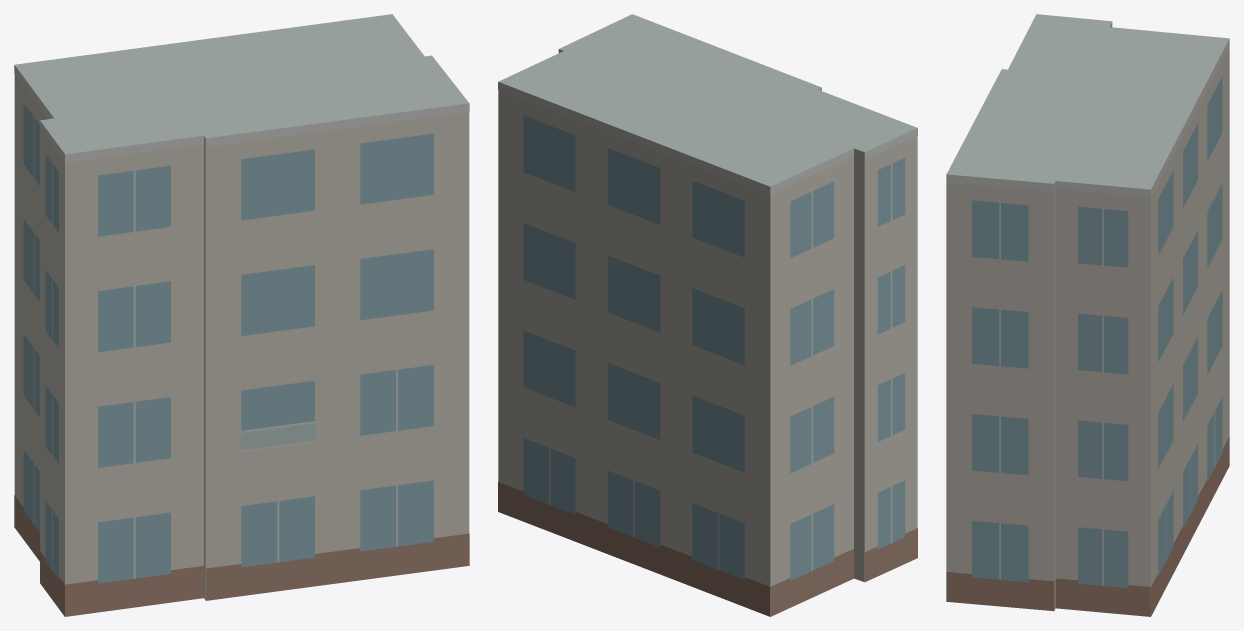
Rendered from survey-upis-32474752.glb.
3 renders of one model, left to right at view 1: azimuth 30°, elevation 25°; view 2: azimuth 150°, elevation 25°; view 3: azimuth 270°, elevation 25°, orthographic. The views are drawn at different scales.
Visible parts, largest first — view 1: survey-upis-32474752.tmp; view 2: survey-upis-32474752.tmp; view 3: survey-upis-32474752.tmp.
Part boxes in pixels (left/top/right/bottom): survey-upis-32474752.tmp: left=14, top=14, right=469, bottom=616; survey-upis-32474752.tmp: left=498, top=14, right=917, bottom=616; survey-upis-32474752.tmp: left=946, top=14, right=1229, bottom=616.
Size of the model in its own units: 11.55 by 13.1 by 7.88.
